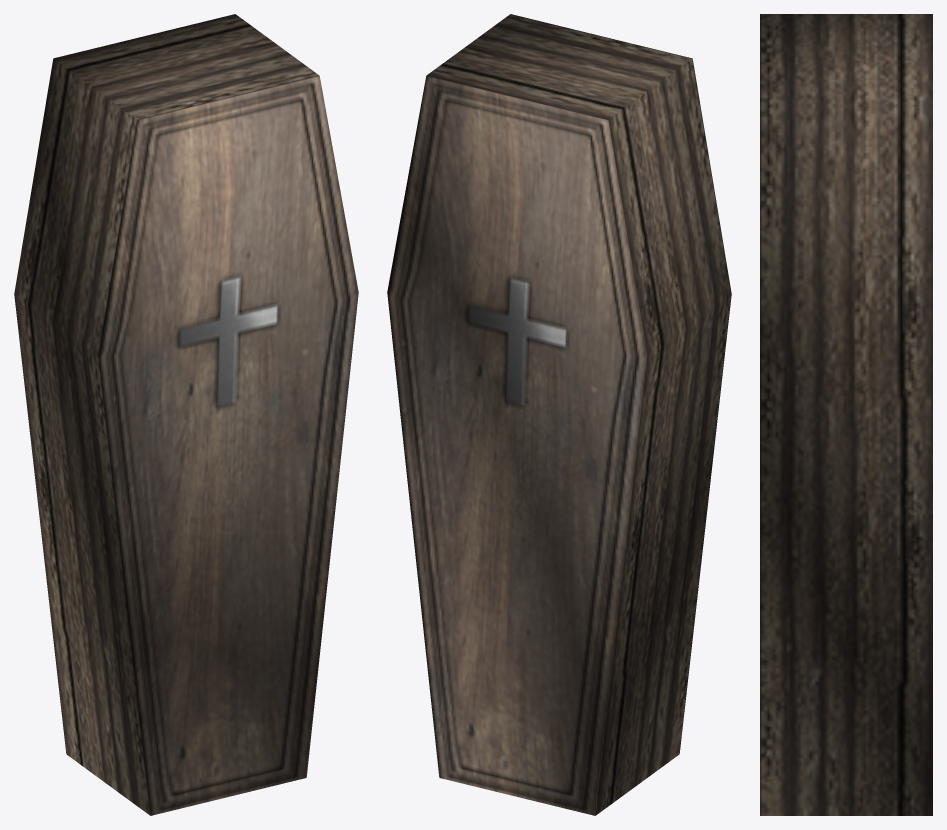
File: Coffin.fbx
3 renders of one model, left to right at view 1: azimuth 30°, elevation 25°; view 2: azimuth 150°, elevation 25°; view 3: azimuth 270°, elevation 25°, orthographic. The views are drawn at different scales.
Parts seen in each view (by area): view 1: Coffin; view 2: Coffin; view 3: Coffin.
Boxes of the visible parts, x1,y1,x2,y2 form: Coffin: (14,14,358,815); Coffin: (387,14,731,815); Coffin: (760,14,932,815).
Size of the model in its own units: 89.15 by 229 by 50.
Materials: 1 (1 with a texture image).
